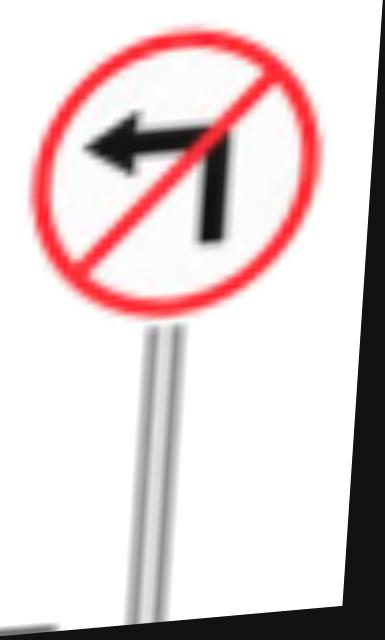not_turn_left: (14, 2, 345, 350)
